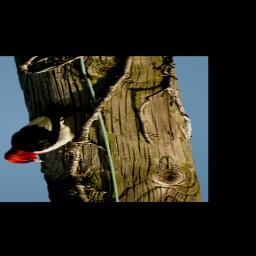Woodpecker: (3, 102, 94, 164)
